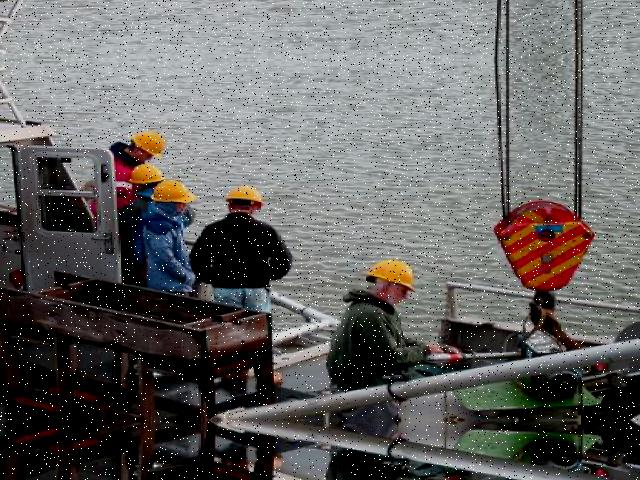Helmet: (361, 256, 420, 296), (145, 174, 199, 205), (219, 180, 267, 208), (126, 128, 167, 158), (123, 160, 165, 186)
